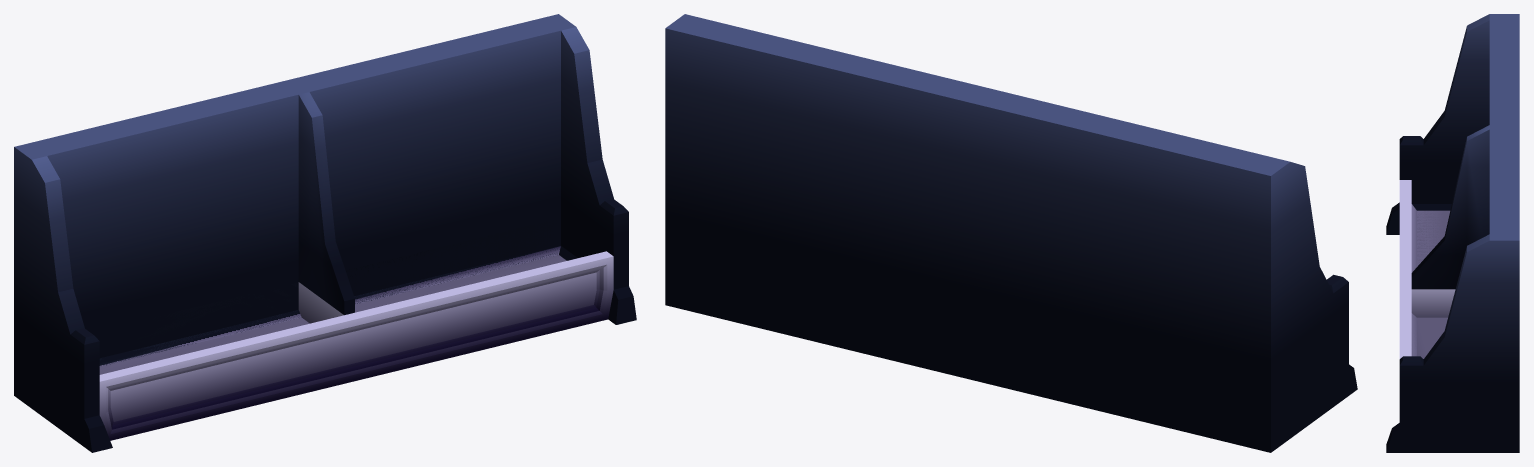
Rendered from Tool Rack.fbx.
3 renders of one model, left to right at view 1: azimuth 30°, elevation 25°; view 2: azimuth 150°, elevation 25°; view 3: azimuth 270°, elevation 25°, orthographic. The views are drawn at different scales.
Parts seen in each view (by area): view 1: ToolRackwDiv1, ToolRackwDiv2, ToolRackwDiv3; view 2: ToolRackwDiv1, ToolRackwDiv3, ToolRackwDiv2; view 3: ToolRackwDiv1, ToolRackwDiv2, ToolRackwDiv3.
Boxes of the visible parts, x1,y1,x2,y2 form: ToolRackwDiv1: (14,14,636,452); ToolRackwDiv2: (93,92,611,421); ToolRackwDiv3: (100,218,595,433); ToolRackwDiv1: (665,14,1357,452); ToolRackwDiv3: (682,33,961,308); ToolRackwDiv2: (682,241,1253,416); ToolRackwDiv1: (1386,14,1519,452); ToolRackwDiv2: (1399,125,1489,358); ToolRackwDiv3: (1411,210,1444,355).
Size of the model in its own units: 196 by 85.54 by 48.63.
